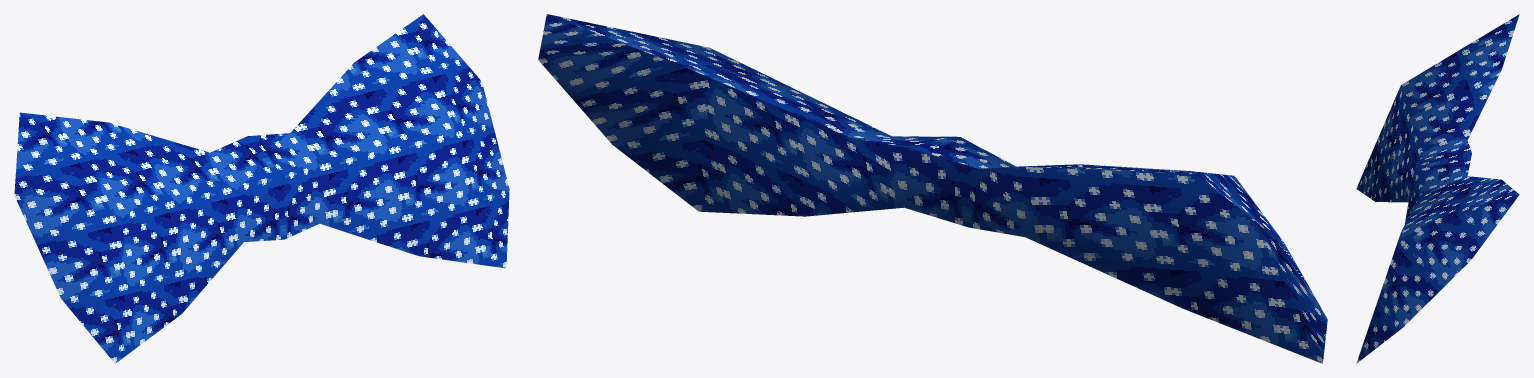
Rendered from code_head98.gltf.
3 renders of one model, left to right at view 1: azimuth 30°, elevation 25°; view 2: azimuth 150°, elevation 25°; view 3: azimuth 270°, elevation 25°, orthographic. The views are drawn at different scales.
Parts seen in each view (by area): view 1: code_head98; view 2: code_head98; view 3: code_head98.
Boxes of the visible parts, x1=… form: code_head98: x1=14, y1=14, x2=509, y2=363; code_head98: x1=538, y1=14, x2=1327, y2=363; code_head98: x1=1356, y1=14, x2=1519, y2=363.
Size of the model in its own units: 0.7495 by 0.2876 by 0.2476.
Materials: 1 (1 with a texture image).
